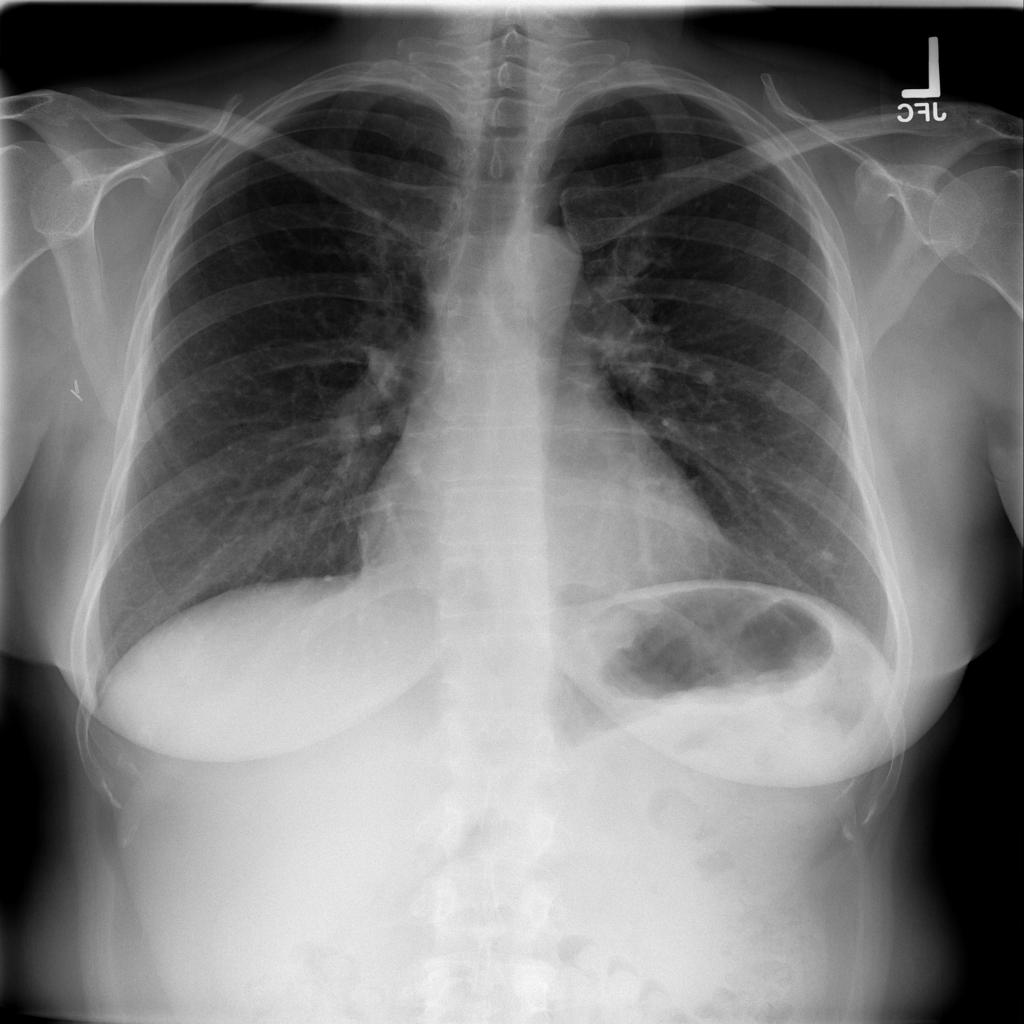nodule: (802, 533, 855, 580)
